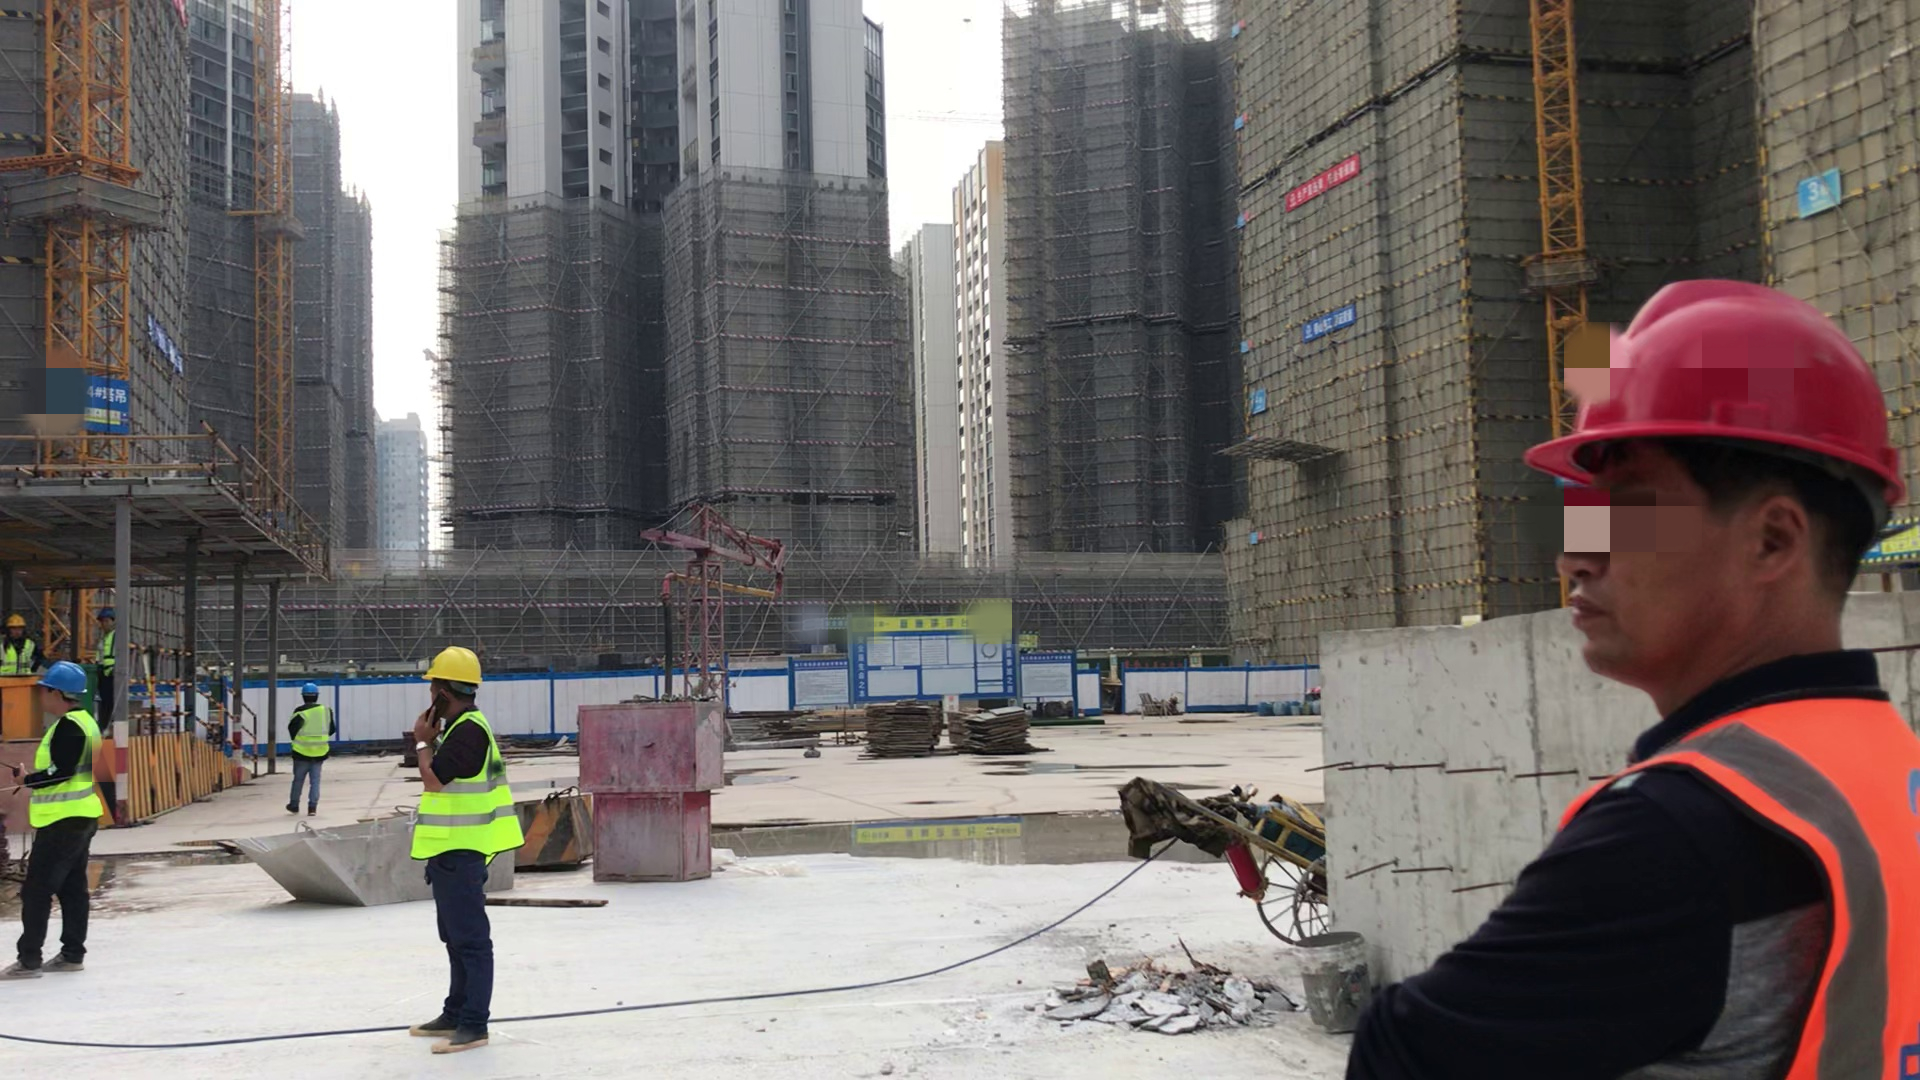board: (865, 696, 938, 764), (969, 707, 1039, 767), (945, 702, 974, 750)
fence: (127, 623, 300, 766)
handcart: (1142, 752, 1372, 968)
helmet: (1517, 265, 1918, 517), (418, 646, 489, 690), (40, 665, 95, 696), (299, 678, 325, 698), (95, 602, 118, 622), (8, 612, 27, 628)
hopper: (231, 808, 521, 917)
person: (1408, 253, 1920, 1078), (403, 642, 528, 1054), (27, 656, 102, 973), (279, 673, 335, 817), (94, 601, 118, 710), (8, 611, 39, 677)
slogan: (1282, 145, 1370, 225), (1301, 299, 1381, 353)
vest: (1549, 696, 1920, 1080), (408, 707, 527, 856), (28, 710, 103, 830), (279, 704, 339, 758), (93, 632, 120, 689), (4, 639, 36, 681)
